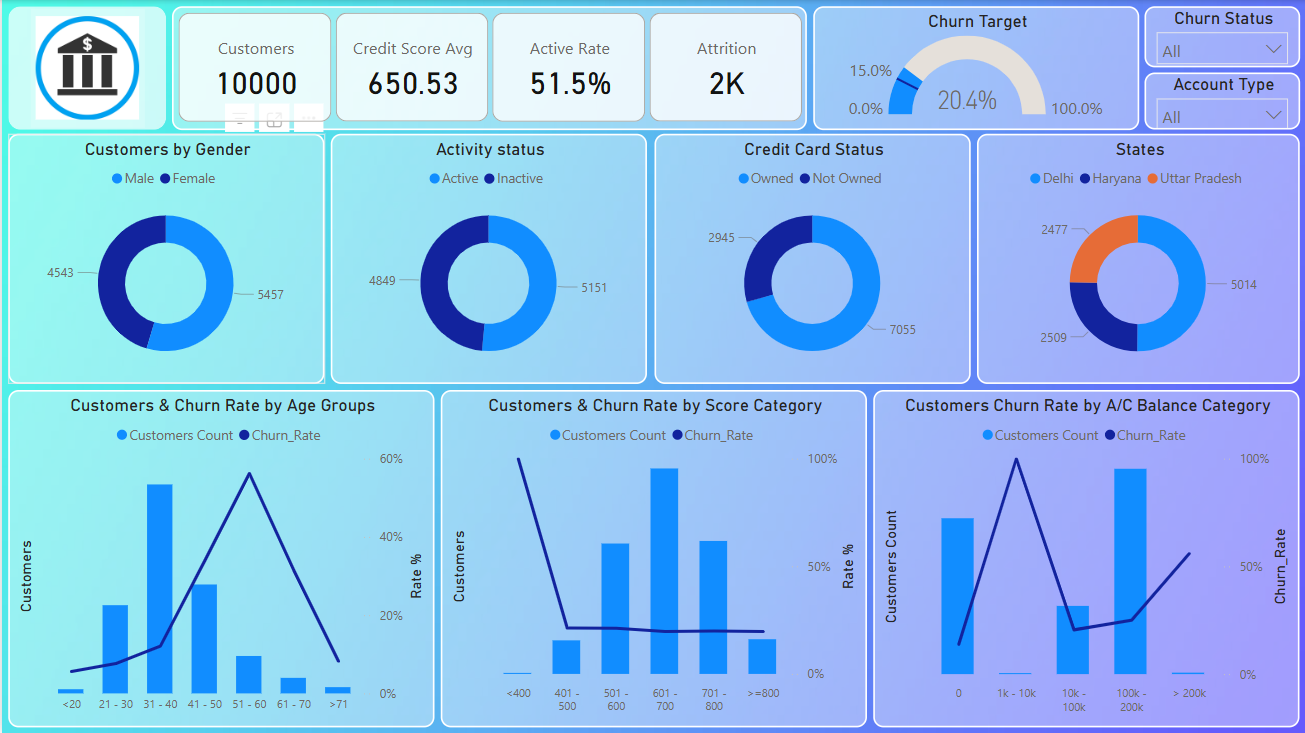

What the dashboard file says about the page in this screenshot:
{"tool":"powerbi","page":{"name":"Dashboard","canvas":[1280,720],"ordinal":0},"visuals":[{"type":"donutChart","title":"Customers by Gender","fields":{"Category":["Customer Data.Gender"],"Y":["Customer Data.Customers Count"]},"box":[6.1,131.3,310,245.4],"z":0},{"type":"donutChart","title":"Activity status","fields":{"Category":["Customer Data.Activity Status"],"Y":["Customer Data.Customers Count"]},"box":[322.9,131.4,310,245.7],"z":1000},{"type":"donutChart","title":"Credit Card Status","fields":{"Y":["Customer Data.Customers Count"],"Category":["Customer Data.Credit Card Status"]},"box":[640,131.4,310,245.7],"z":2000},{"type":"donutChart","title":"States","fields":{"Y":["Customer Data.Customers Count"],"Category":["Customer Data.State"]},"box":[957.1,131.4,317.1,245.7],"z":3000},{"type":"lineStackedColumnComboChart","title":"Customers & Churn Rate by Age Groups","fields":{"Y":["Customer Data.Customers Count"],"Y2":["Customer Data.Churn_Rate"],"Category":["Age Groups.Age Groups"]},"box":[6.1,382.8,418,331],"z":4000},{"type":"lineStackedColumnComboChart","title":"Customers & Churn Rate by Score Category","fields":{"Y":["Customer Data.Customers Count"],"Y2":["Customer Data.Churn_Rate"],"Category":["Credit Score Groups.Score Category"]},"box":[430.8,382.5,418.3,330.8],"z":5000},{"type":"lineStackedColumnComboChart","title":"Customers Churn Rate by A/C Balance Category","fields":{"Y":["Customer Data.Customers Count"],"Y2":["Customer Data.Churn_Rate"],"Category":["Account Balance Groups.Acct Balance"]},"box":[855.7,382.9,418.6,331.4],"z":6000},{"type":"slicer","title":"Churn Status","fields":{"Values":["Customer Data.Churn Status"]},"box":[1121.2,6.2,152.5,60],"z":7000},{"type":"gauge","title":"Churn Target","fields":{"Y":["Customer Data.Churn_Rate"],"MaxValue":["Max(Customer Data.Max Chrun Rate)"],"MinValue":["Min(Customer Data.Min Churn Rate)"],"TargetValue":["Max(Customer Data.Target Churn Rate)"]},"box":[795.7,5.7,320,121.4],"z":8000},{"type":"cardVisual","fields":{"Data":["CountNonNull(Customer Data.Customer ID)","Avg(Customer Data.Credit Score)","Customer Data.Active %","Customer Data.Attrition"]},"box":[167.1,5.7,623,121.4],"z":9000},{"type":"slicer","title":"Account Type","fields":{"Values":["Customer Data.Account Type"]},"box":[1121.2,71.2,152.5,56.2],"z":10000},{"type":"shape","box":[6.2,6.2,155,121.2],"z":11000},{"type":"image","box":[28.2,8.6,111.7,116.6],"z":12000}]}

Visuals, with their boxes in screenshot pixels (x1, y1, x2, y2), scaled from the page's 1280x720 canvas onto the 1305x733 screenshot:
"Customers by Gender" donutChart: 6/134/322/384
"Activity status" donutChart: 329/134/645/384
"Credit Card Status" donutChart: 652/134/969/384
"States" donutChart: 976/134/1299/384
"Customers & Churn Rate by Age Groups" lineStackedColumnComboChart: 6/390/432/727
"Customers & Churn Rate by Score Category" lineStackedColumnComboChart: 439/389/866/726
"Customers Churn Rate by A/C Balance Category" lineStackedColumnComboChart: 872/390/1299/727
"Churn Status" slicer: 1143/6/1299/67
"Churn Target" gauge: 811/6/1137/129
cardVisual - CountNonNull(Customer Data.Customer ID) x Avg(Customer Data.Credit Score): 170/6/806/129
"Account Type" slicer: 1143/72/1299/130
shape: 6/6/164/130
image: 29/9/143/127
